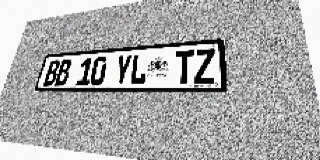0: (89, 56, 108, 85)
1: (76, 57, 94, 85)
B: (54, 59, 73, 86), (43, 60, 61, 86)
L: (129, 53, 148, 85)
T: (174, 50, 194, 84)
Y: (113, 54, 132, 85)
Z: (195, 48, 215, 84)
